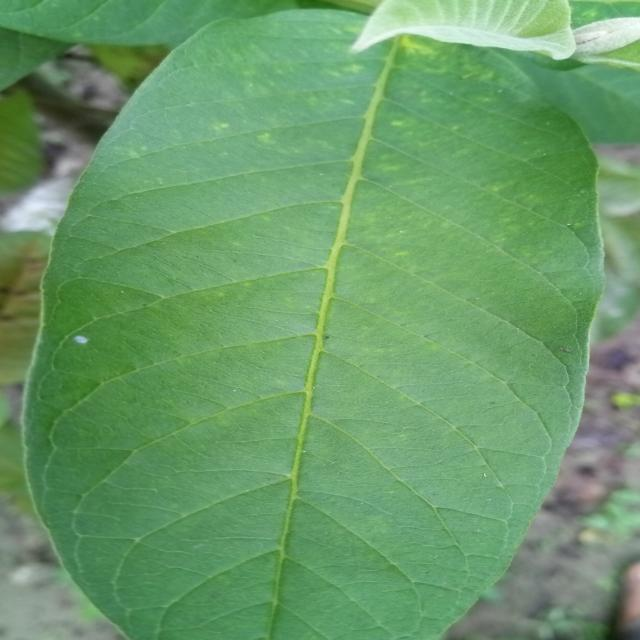Disease Free: (24, 10, 601, 640)
